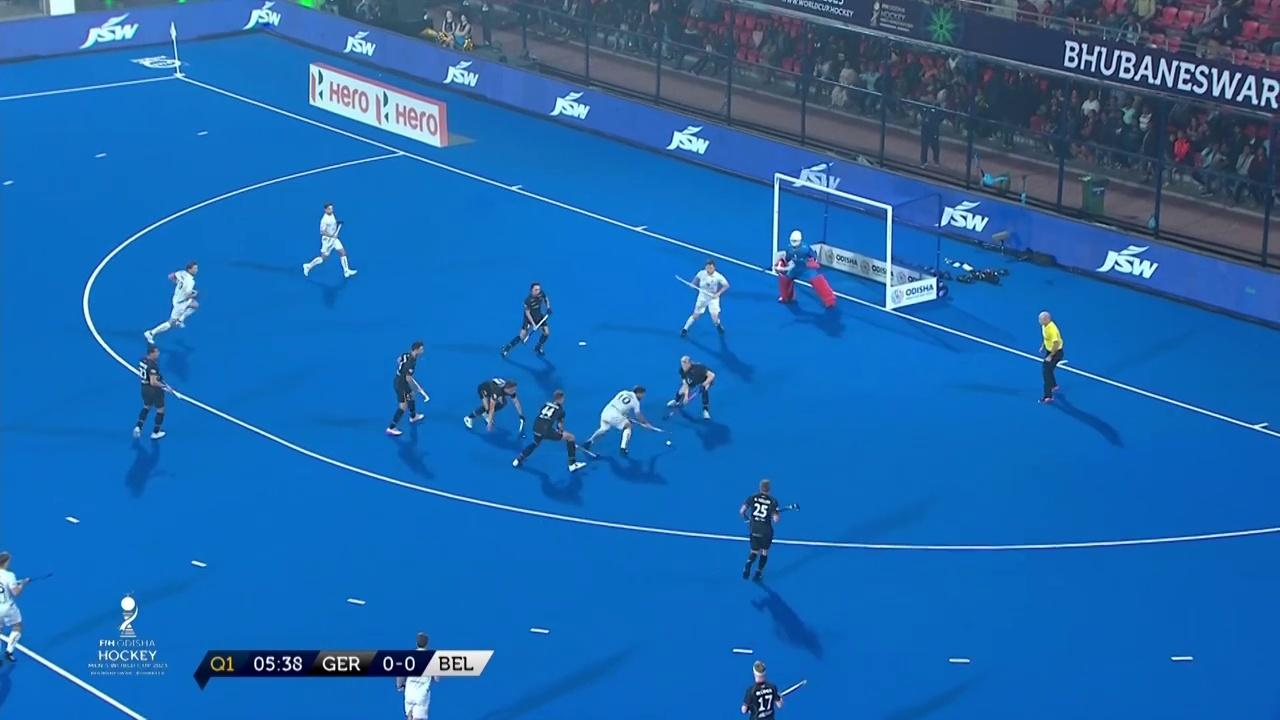ball: (663, 438, 676, 451)
